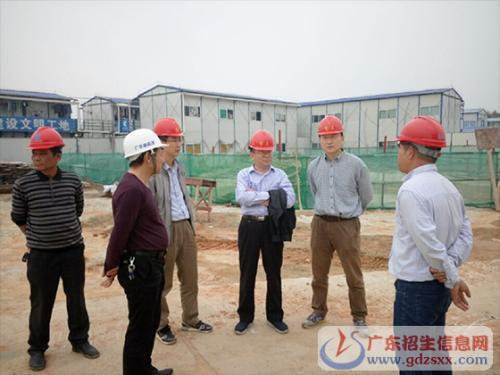helmet: (390, 114, 447, 172), (121, 126, 167, 184), (26, 125, 68, 173), (152, 114, 184, 163), (245, 128, 278, 170), (316, 115, 348, 158)
